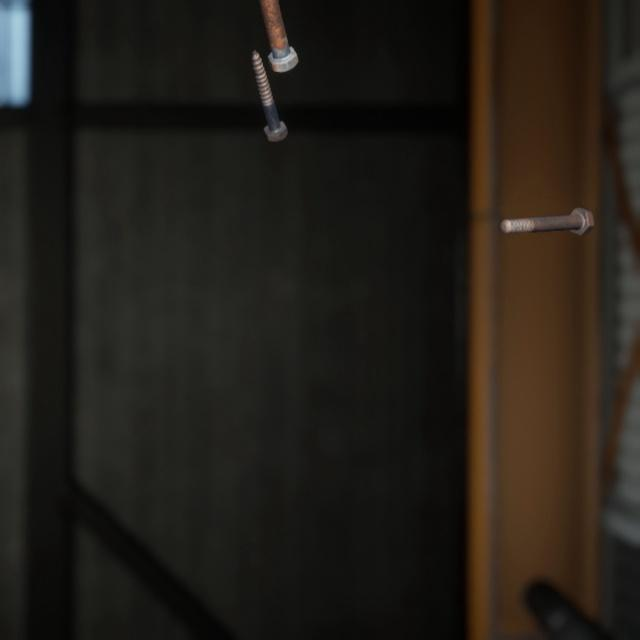bolt: (247, 33, 292, 134), (495, 188, 598, 225), (256, 0, 302, 68)
